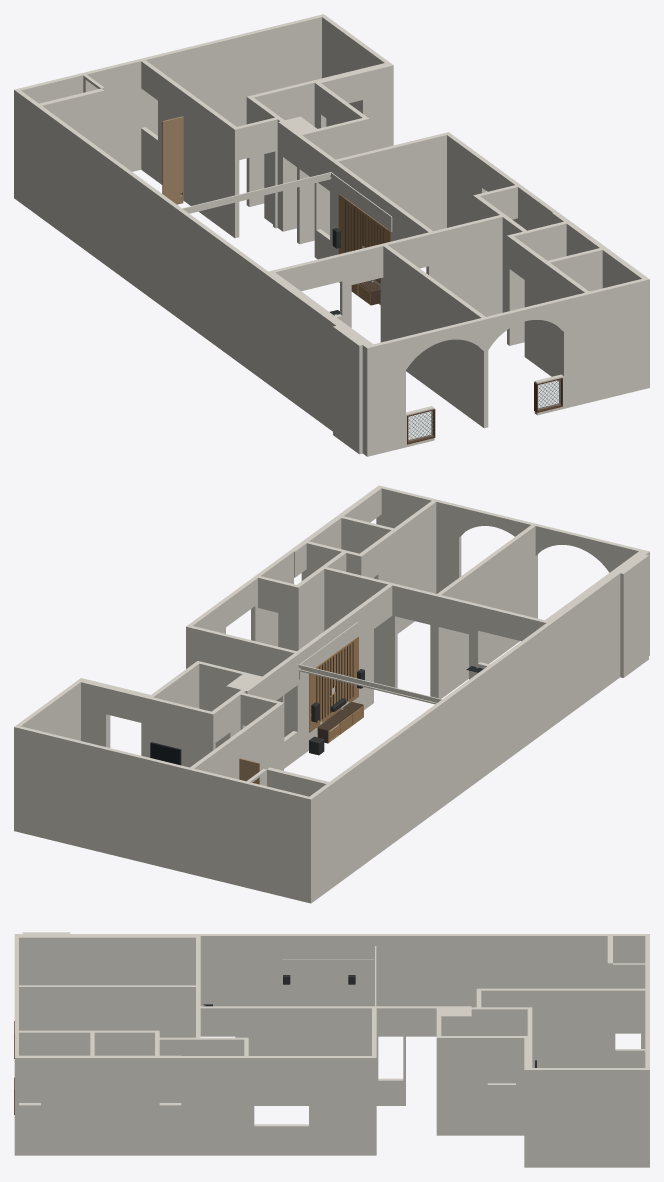
File: review-v022.glb
3 views of the same model, one above another, from view 1: azimuth 30°, elevation 25°; view 2: azimuth 150°, elevation 25°; view 3: azimuth 270°, elevation 25° (orthographic). The views are drawn at different scales.
Visible parts, largest first — view 1: R22_PART_0061, R22_PART_0085, R22_PART_0081, R22_PART_0094, R22_PART_0093; view 2: R22_PART_0061, R22_PART_0081, R22_PART_0094, R22_PART_0093, R22_PART_0063; view 3: R22_PART_0061, R22_PART_0095.
Part boxes in pixels (x1,y1,x2,y2): R22_PART_0061: (14,14,649,456); R22_PART_0085: (162,116,183,201); R22_PART_0081: (342,196,387,283); R22_PART_0094: (182,172,331,213); R22_PART_0093: (330,172,392,231); R22_PART_0061: (14,485,649,903); R22_PART_0081: (312,639,355,726); R22_PART_0094: (298,664,441,704); R22_PART_0093: (299,622,358,679); R22_PART_0063: (316,702,363,743); R22_PART_0061: (14,932,649,1167); R22_PART_0095: (282,959,374,983).
Bounding box in the file's own units: 9.06 × 3 × 17.72.
